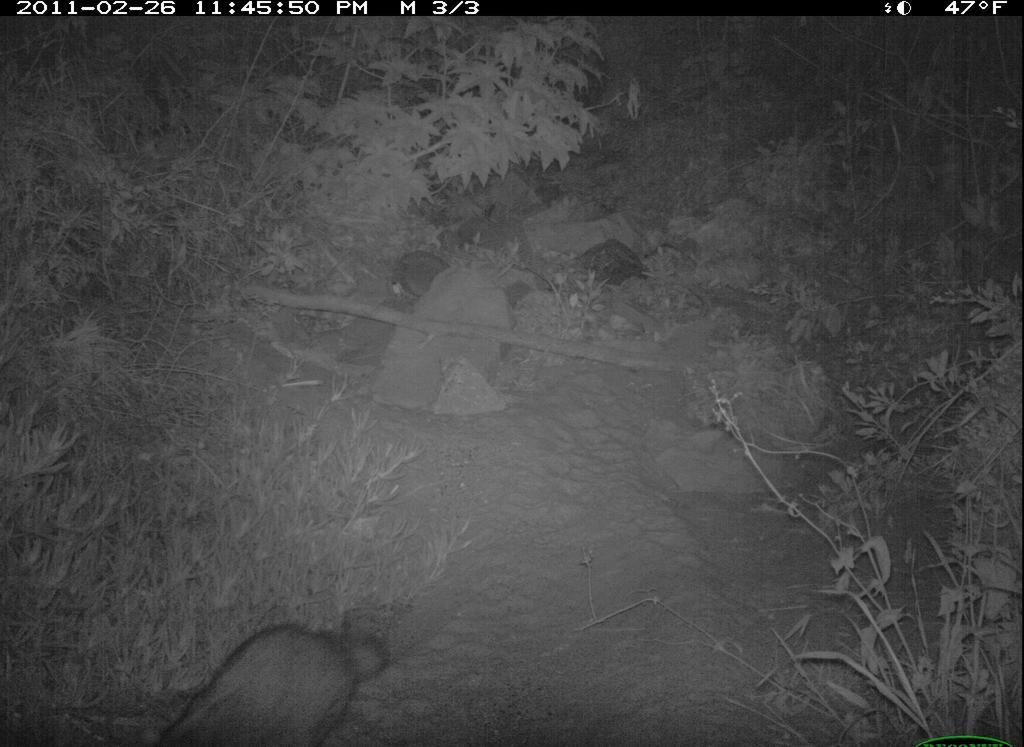raccoon: (155, 620, 399, 745)
